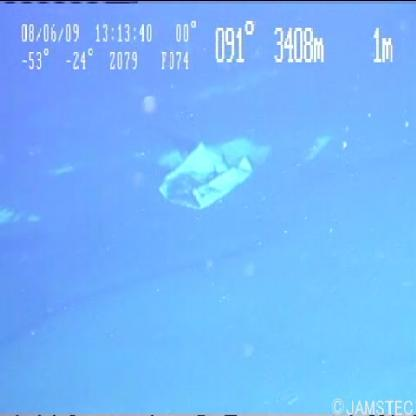Rác: (139, 124, 290, 212)
